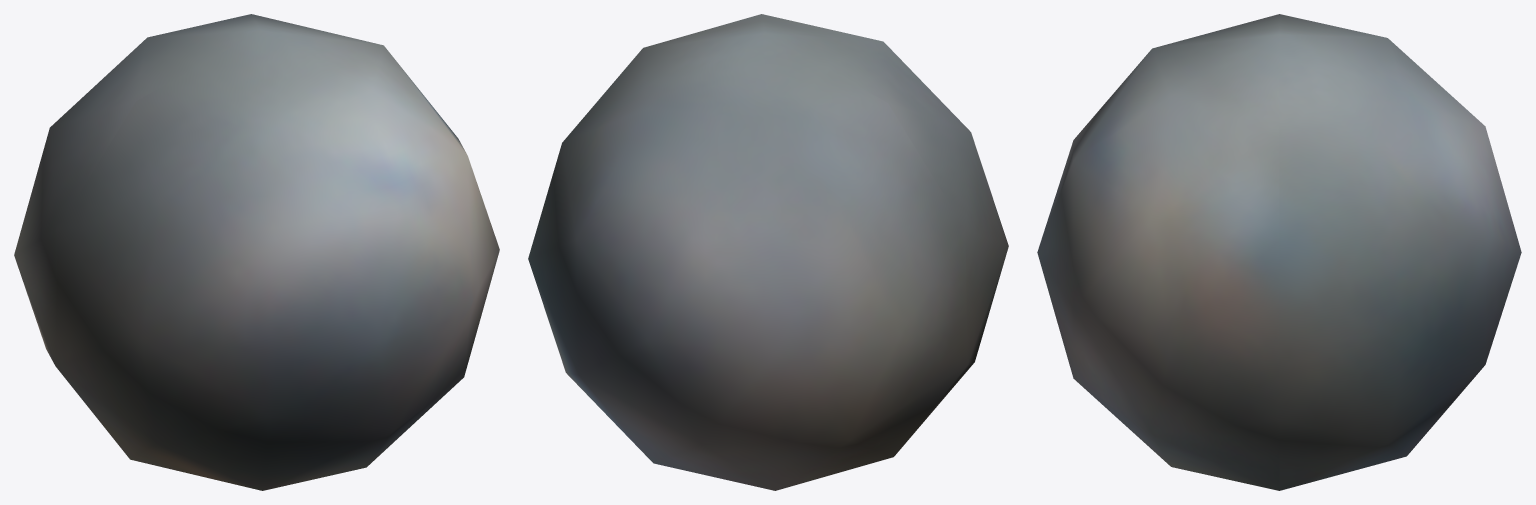
Rendered from goddesstear.FBX.
The picture shows the model from 3 angles, left to right: view 1: azimuth 30°, elevation 25°; view 2: azimuth 150°, elevation 25°; view 3: azimuth 270°, elevation 25°; orthographic projection.
Parts seen in each view (by area): view 1: goddesstear; view 2: goddesstear; view 3: goddesstear.
Boxes of the visible parts, x1=… form: goddesstear: x1=14, y1=14, x2=499, y2=490; goddesstear: x1=528, y1=14, x2=1008, y2=490; goddesstear: x1=1037, y1=14, x2=1521, y2=490.
Bounding box in the file's own units: 47.96 × 50.14 × 50.15.
